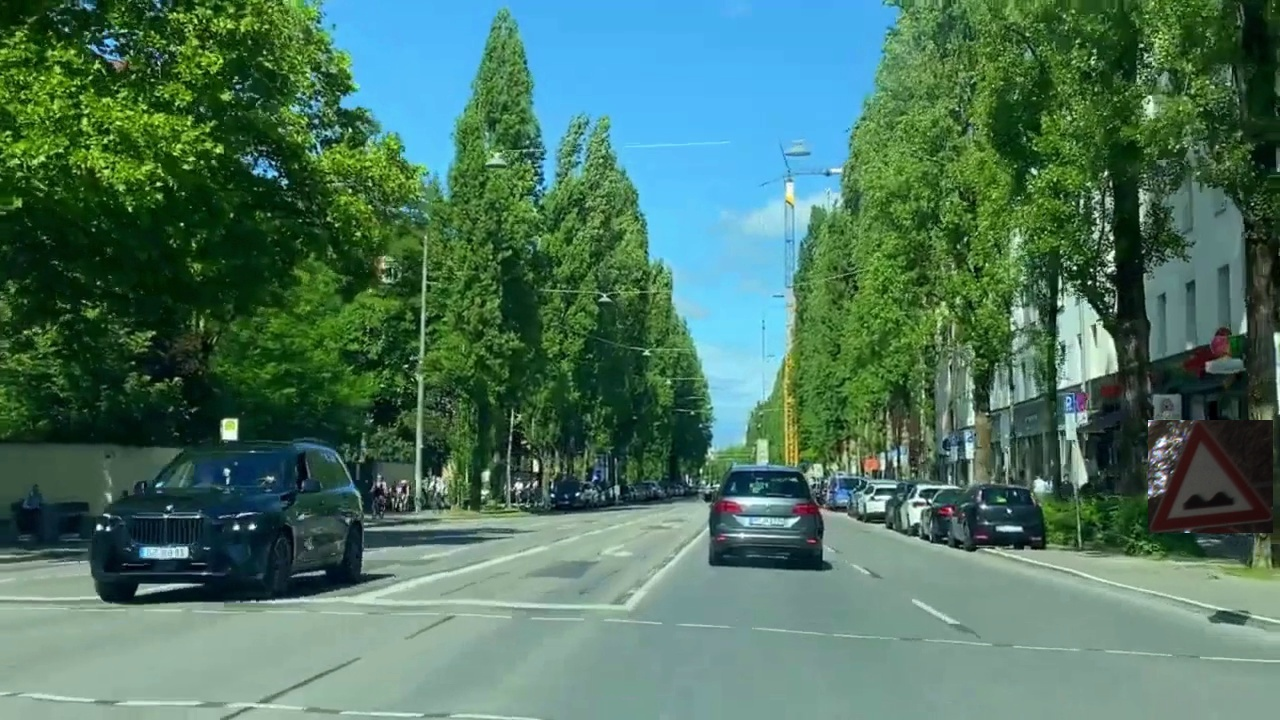Bumpy road: (1148, 420, 1273, 533)
